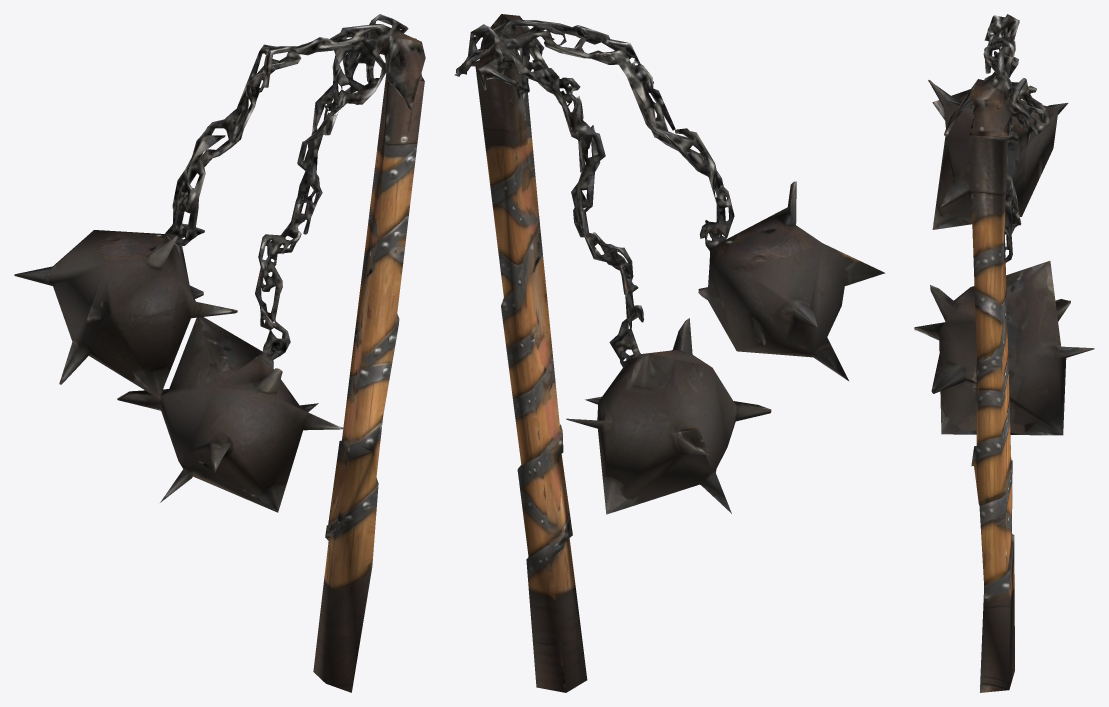
The model's file is 1559_flail.glb.
3 views of the same model, side by side, from view 1: azimuth 30°, elevation 25°; view 2: azimuth 150°, elevation 25°; view 3: azimuth 270°, elevation 25° (orthographic). The views are drawn at different scales.
Visible parts, largest first — view 1: Model; view 2: Model; view 3: Model.
Boxes of the visible parts, x1,y1,x2,y2 form: Model: (14,14,425,692); Model: (454,14,885,692); Model: (914,14,1094,692).
Size of the model in its own units: 0.5991 by 1 by 0.2534.
1 material, 1 textured.
